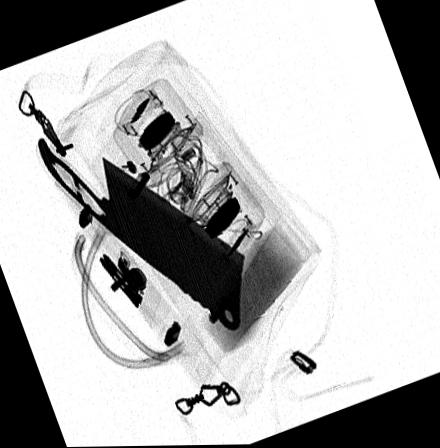Knife: (34, 136, 245, 333)
